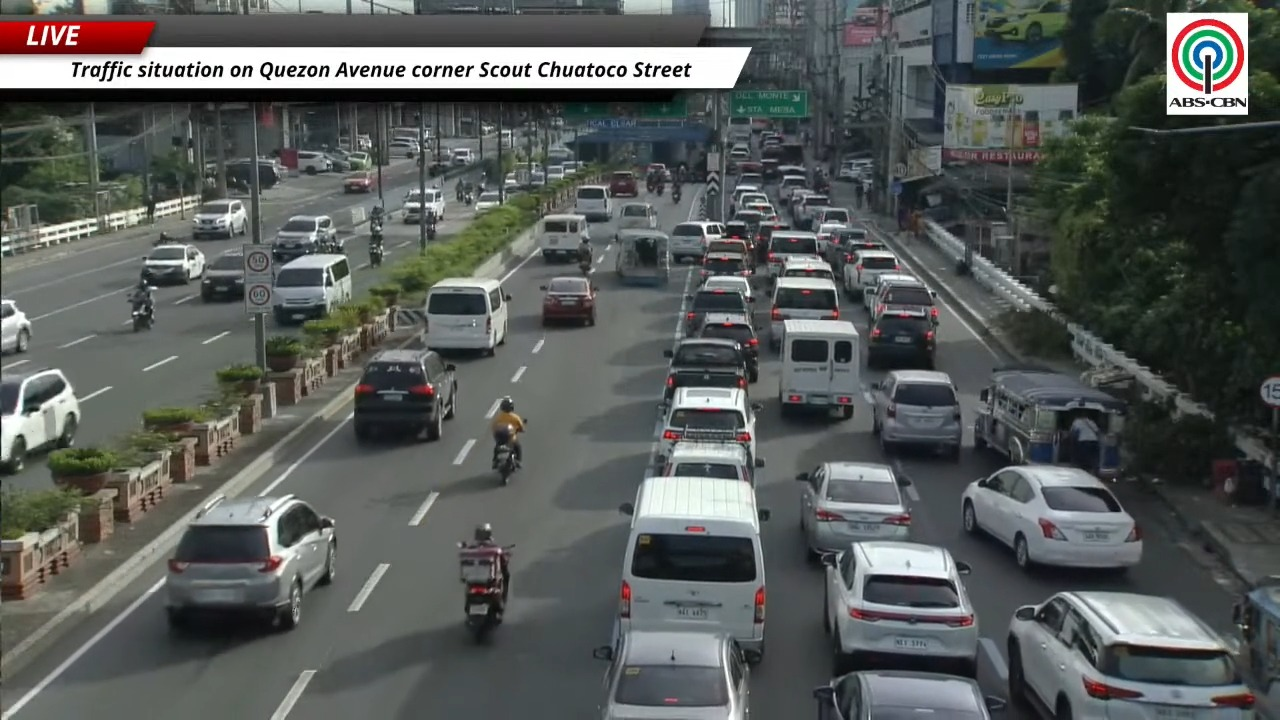car: (1007, 591, 1262, 719), (164, 495, 336, 629), (822, 541, 979, 677), (962, 465, 1142, 568), (593, 630, 749, 719), (795, 462, 911, 556), (813, 670, 1007, 719), (353, 349, 457, 440), (0, 368, 80, 473), (871, 370, 963, 460), (659, 388, 762, 459), (663, 337, 748, 402), (659, 442, 764, 485), (698, 313, 758, 382), (866, 310, 936, 369), (982, 0, 1067, 44), (684, 287, 751, 335), (272, 215, 337, 263), (828, 221, 884, 276), (870, 279, 938, 324), (860, 271, 923, 318), (842, 249, 900, 298), (540, 276, 597, 325), (142, 243, 205, 284), (191, 199, 248, 239), (201, 249, 243, 302), (400, 187, 446, 223), (0, 299, 31, 351), (700, 276, 754, 305), (780, 255, 834, 282), (699, 252, 750, 280), (793, 193, 830, 228), (707, 229, 751, 256), (617, 202, 659, 230), (815, 221, 845, 257), (730, 181, 762, 211), (777, 172, 807, 202), (297, 151, 333, 174), (343, 170, 376, 192), (608, 171, 637, 196), (816, 207, 852, 226), (745, 202, 778, 222), (474, 191, 502, 213), (388, 139, 420, 158), (738, 161, 763, 185), (732, 208, 764, 226), (325, 149, 350, 172), (725, 220, 752, 241), (735, 191, 770, 207), (761, 159, 780, 182), (347, 152, 371, 170), (645, 163, 669, 181), (450, 148, 474, 166), (729, 146, 750, 166), (546, 165, 565, 182)
motorcycle: (457, 542, 514, 641), (494, 443, 518, 485), (132, 303, 153, 331), (369, 235, 384, 267), (317, 237, 344, 253), (578, 258, 591, 277), (426, 217, 436, 240), (671, 186, 681, 202), (463, 191, 473, 205), (656, 183, 664, 197), (646, 181, 655, 193), (524, 418, 527, 424)
